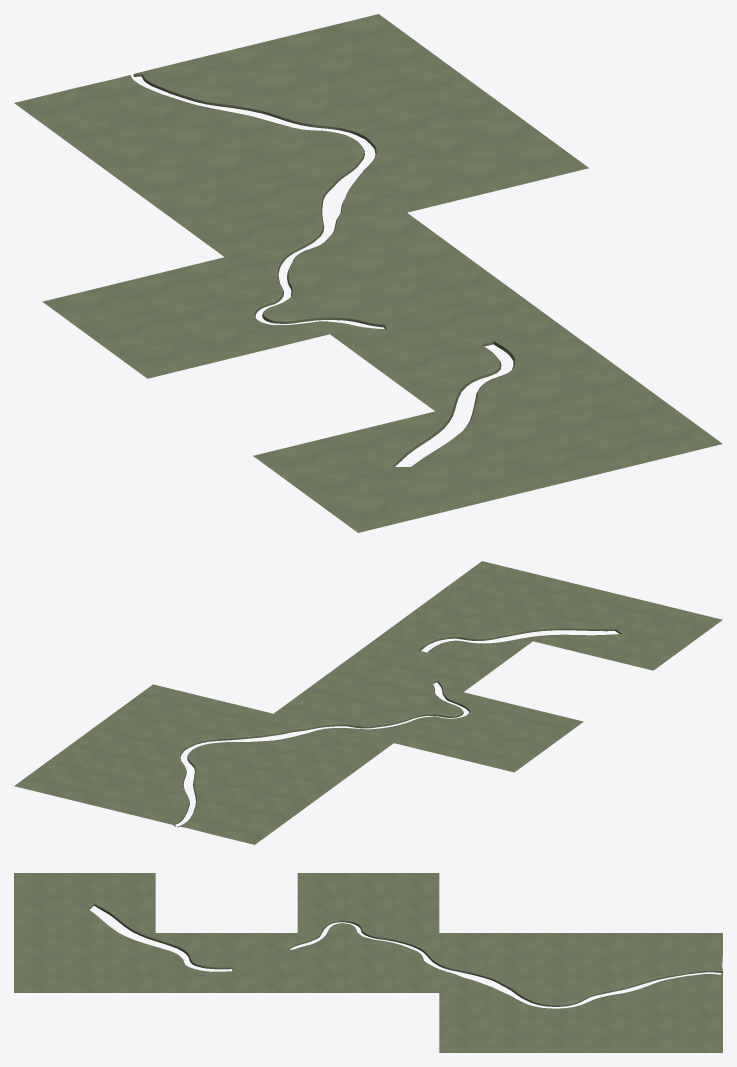
The model's file is G_riverGround.fbx.
3 renders of one model, top to bottom at view 1: azimuth 30°, elevation 25°; view 2: azimuth 150°, elevation 25°; view 3: azimuth 270°, elevation 25°, orthographic. The views are drawn at different scales.
Visible parts, largest first — view 1: lod1; view 2: lod1; view 3: lod1.
Boxes of the visible parts, left/top/right/bottom form: lod1: left=14, top=14, right=722, bottom=532; lod1: left=14, top=561, right=722, bottom=844; lod1: left=14, top=873, right=722, bottom=1052.
Size of what is drawn, in the model's own units: 18000 by 83.35 by 30000.
Materials: 1 (1 with a texture image).
